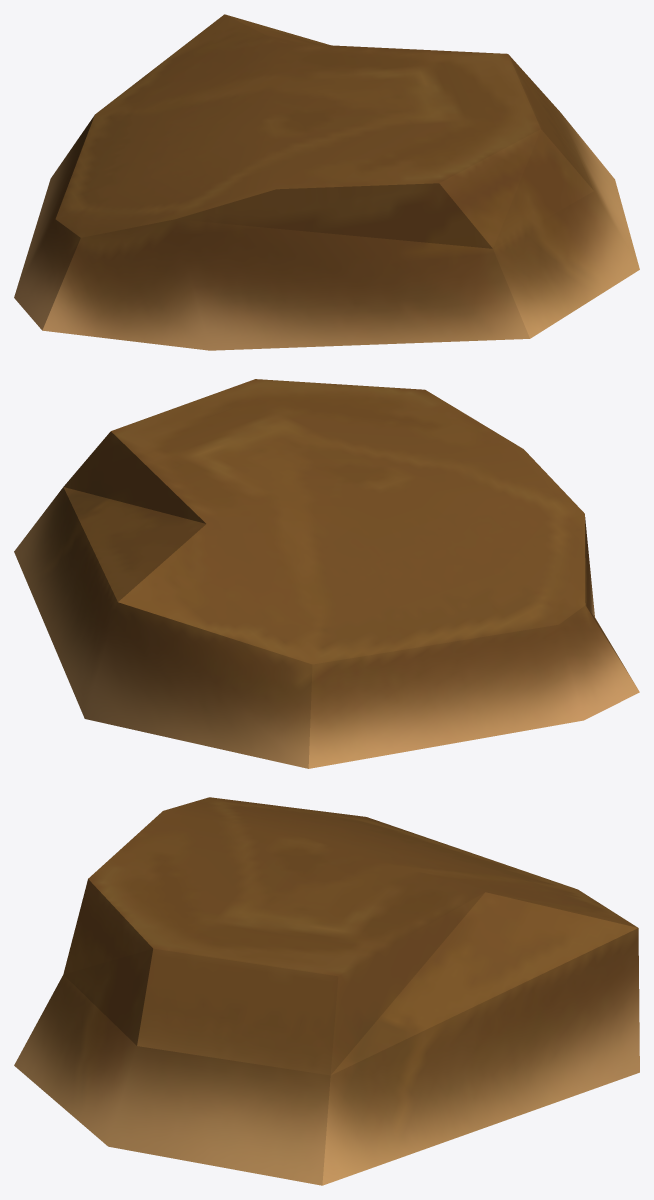
The model's file is difuchangjing_shitou12.FBX.
3 views of the same model, one above another, from view 1: azimuth 30°, elevation 25°; view 2: azimuth 150°, elevation 25°; view 3: azimuth 270°, elevation 25° (orthographic). The views are drawn at different scales.
Visible parts, largest first — view 1: difuchangjing_shitou12; view 2: difuchangjing_shitou12; view 3: difuchangjing_shitou12.
Part boxes in pixels (x1,y1,x2,y2): difuchangjing_shitou12: (14,14,639,350); difuchangjing_shitou12: (14,379,639,768); difuchangjing_shitou12: (14,797,639,1185).
Bounding box in the file's own units: 54.07 × 12.77 × 46.23.
